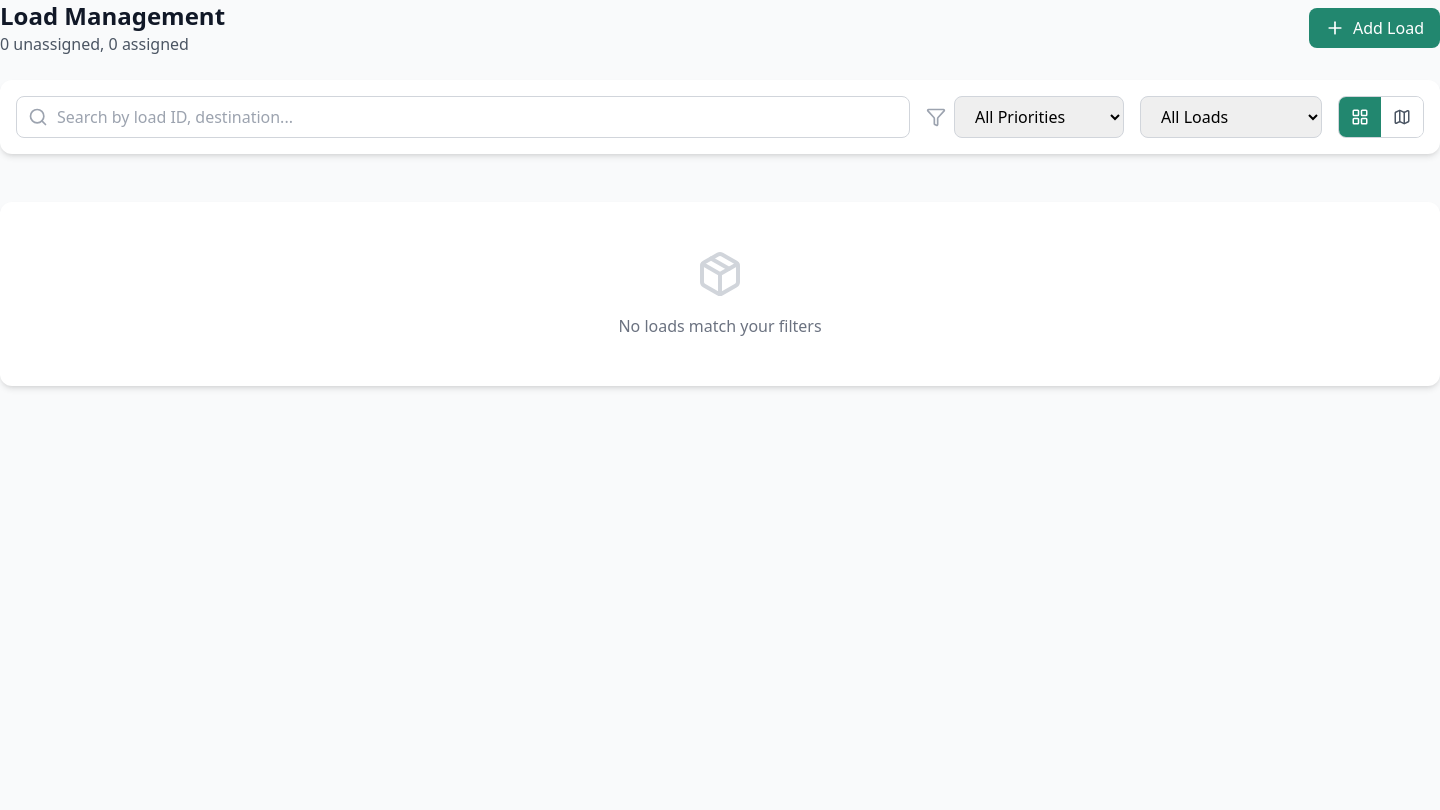
LoadList › add load modal › should open modal when Add Load button is clicked
Click the button "Add Load".
click(1374, 28)  # box [1309,8,1439,48]
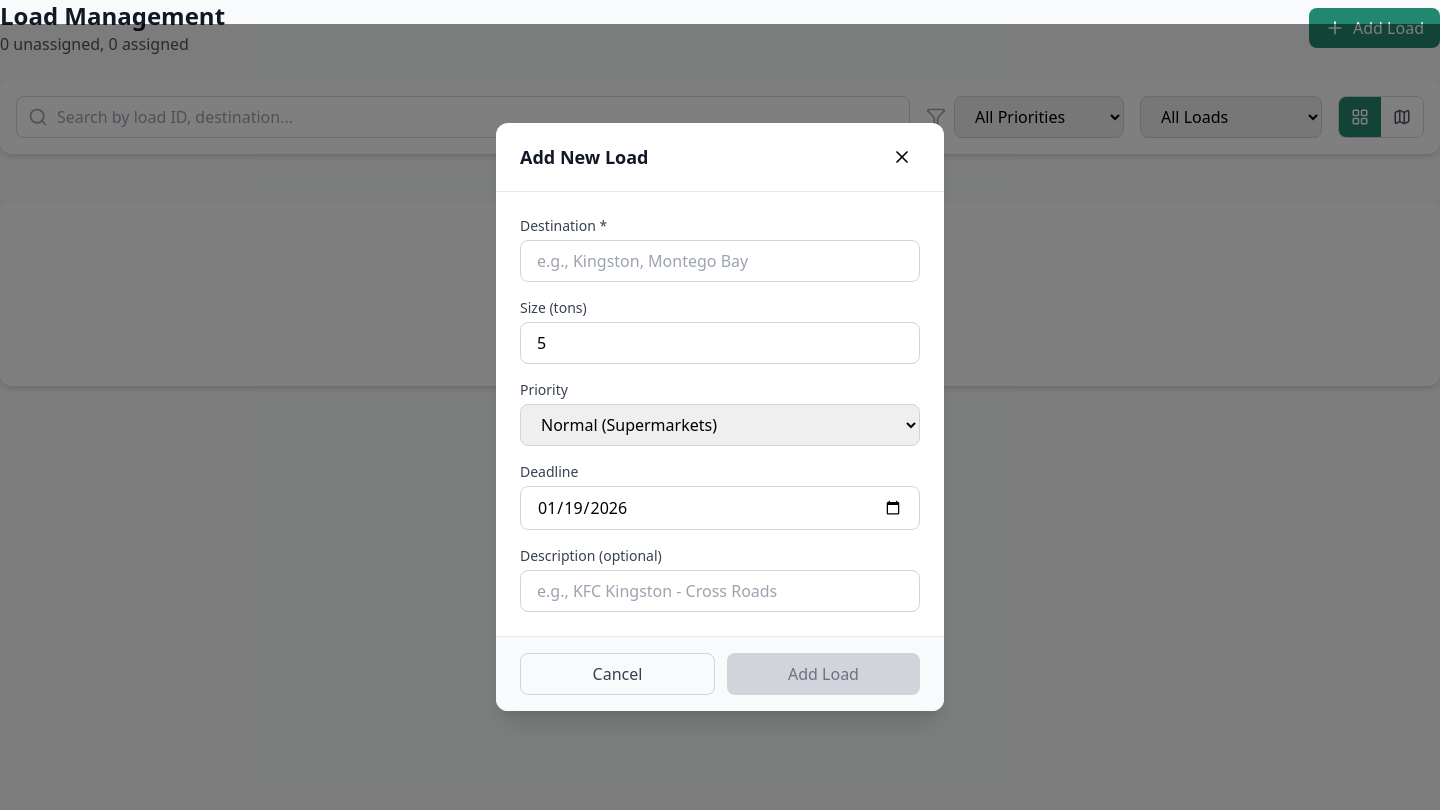
Expected: the heading "Add New Load" is shown, [520,143,648,171]
